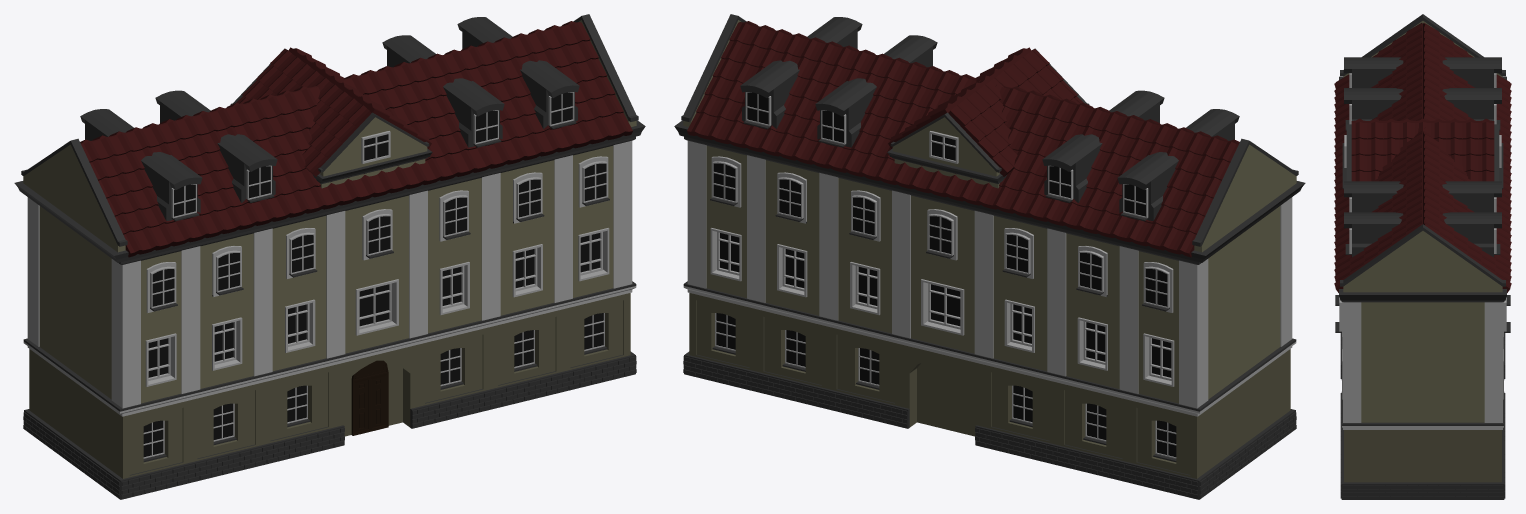
File: Building1_Large.fbx
3 views of the same model, side by side, from view 1: azimuth 30°, elevation 25°; view 2: azimuth 150°, elevation 25°; view 3: azimuth 270°, elevation 25° (orthographic). The views are drawn at different scales.
Parts seen in each view (by area): view 1: Building1_Large; view 2: Building1_Large; view 3: Building1_Large.
Boxes of the visible parts, <box> form: Building1_Large: <box>14,14,645,499</box>; Building1_Large: <box>674,14,1305,499</box>; Building1_Large: <box>1334,14,1511,499</box>.
Bounding box in the file's own units: 7.99 × 4.67 × 2.74.
